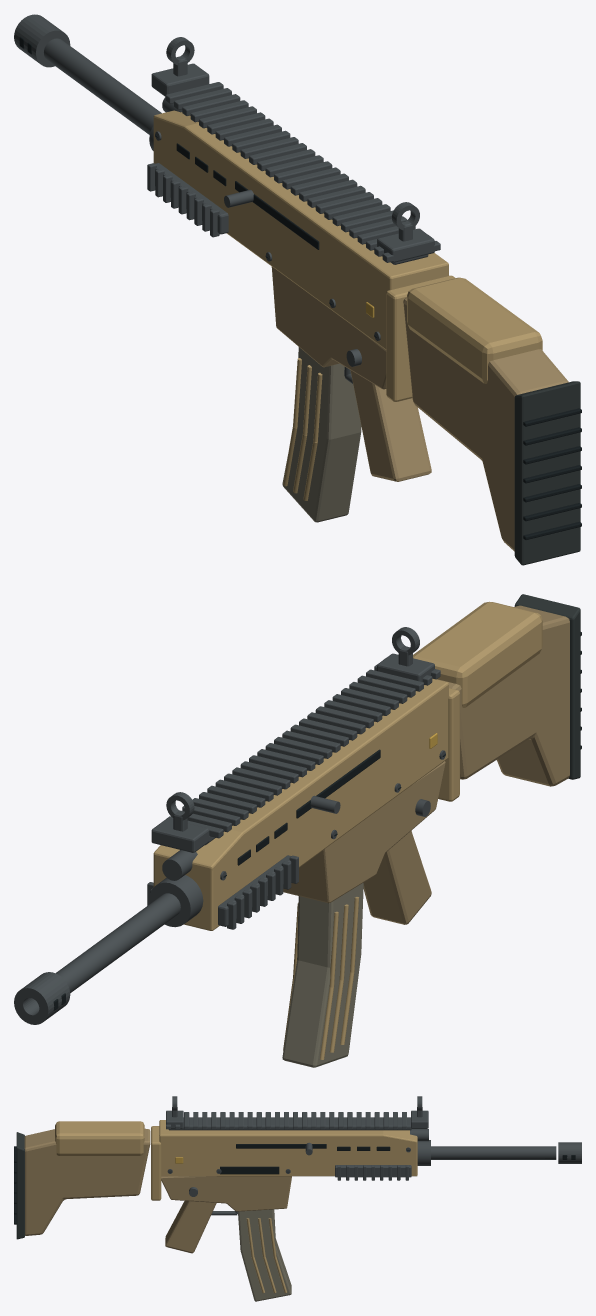
Rendered from rifle_4.glb.
3 views of the same model, one above another, from view 1: azimuth 30°, elevation 25°; view 2: azimuth 150°, elevation 25°; view 3: azimuth 270°, elevation 25° (orthographic). The views are drawn at different scales.
Parts seen in each view (by area): view 1: Weapon_rifle_realism_v2; view 2: Weapon_rifle_realism_v2; view 3: Weapon_rifle_realism_v2.
Part boxes in pixels (left/top/right/bottom): Weapon_rifle_realism_v2: left=14, top=14, right=581, bottom=565; Weapon_rifle_realism_v2: left=14, top=594, right=581, bottom=1067; Weapon_rifle_realism_v2: left=14, top=1096, right=581, bottom=1301.
Bounding box in the file's own units: 0.122 × 0.3904 × 1.
